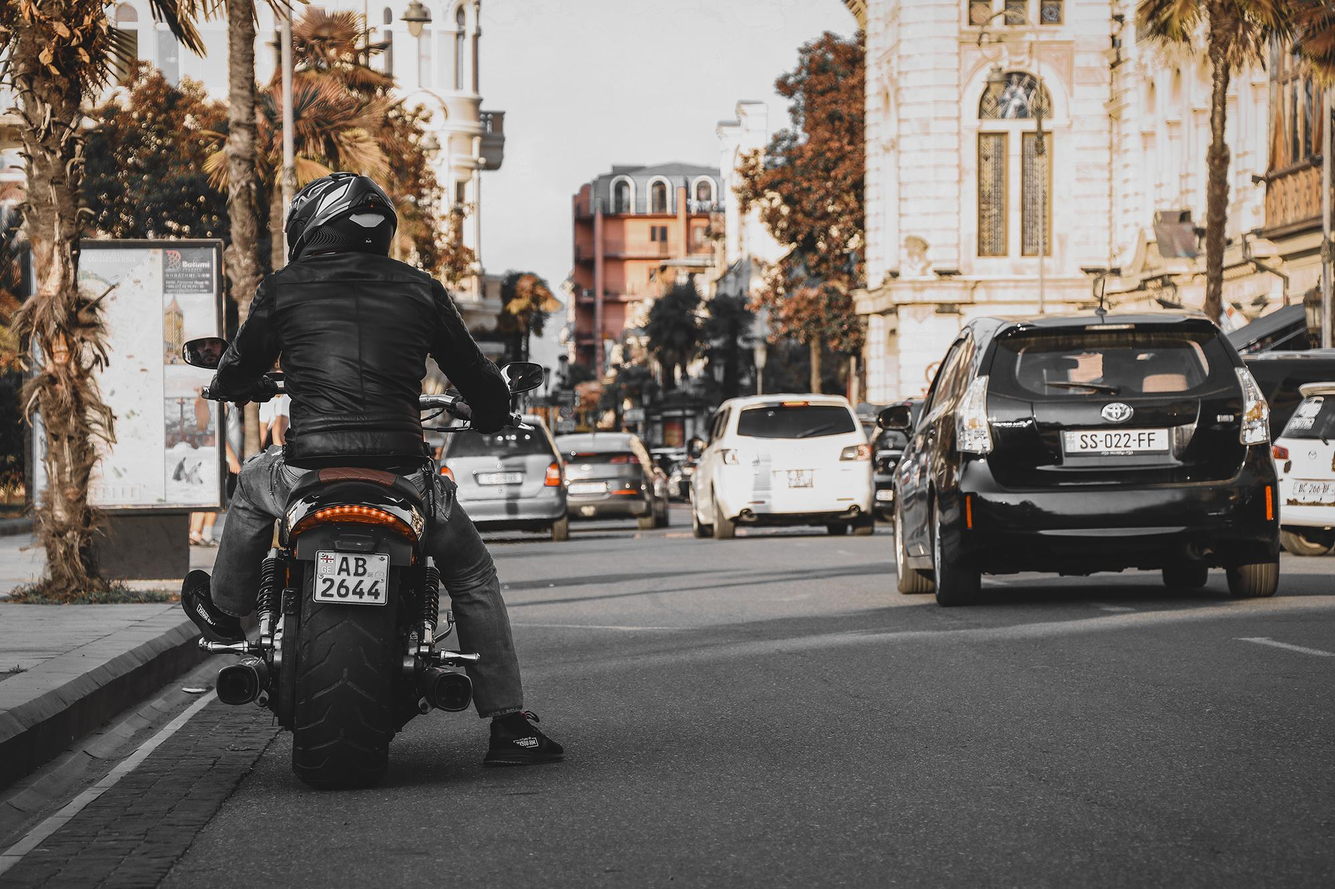helmet: (282, 170, 399, 279)
